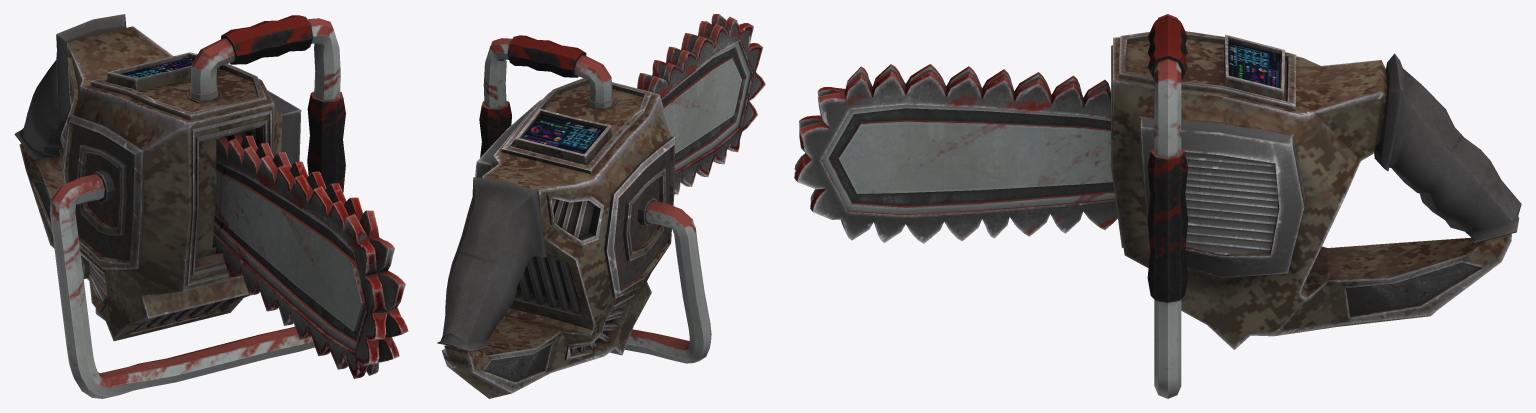
Rendered from chainsaw.glb.
3 views of the same model, side by side, from view 1: azimuth 30°, elevation 25°; view 2: azimuth 150°, elevation 25°; view 3: azimuth 270°, elevation 25° (orthographic). The views are drawn at different scales.
Parts seen in each view (by area): view 1: polySurface16; view 2: polySurface16; view 3: polySurface16.
Boxes of the visible parts, x1=… form: polySurface16: x1=14, y1=14, x2=408, y2=398; polySurface16: x1=437, y1=14, x2=765, y2=398; polySurface16: x1=794, y1=14, x2=1521, y2=398.
Size of the model in its own units: 0.4815 by 0.5716 by 1.1.
Materials: 1 (1 with a texture image).
